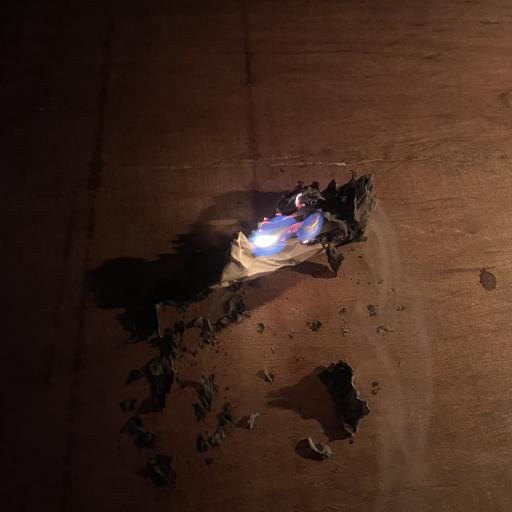fire: (227, 190, 348, 286)
